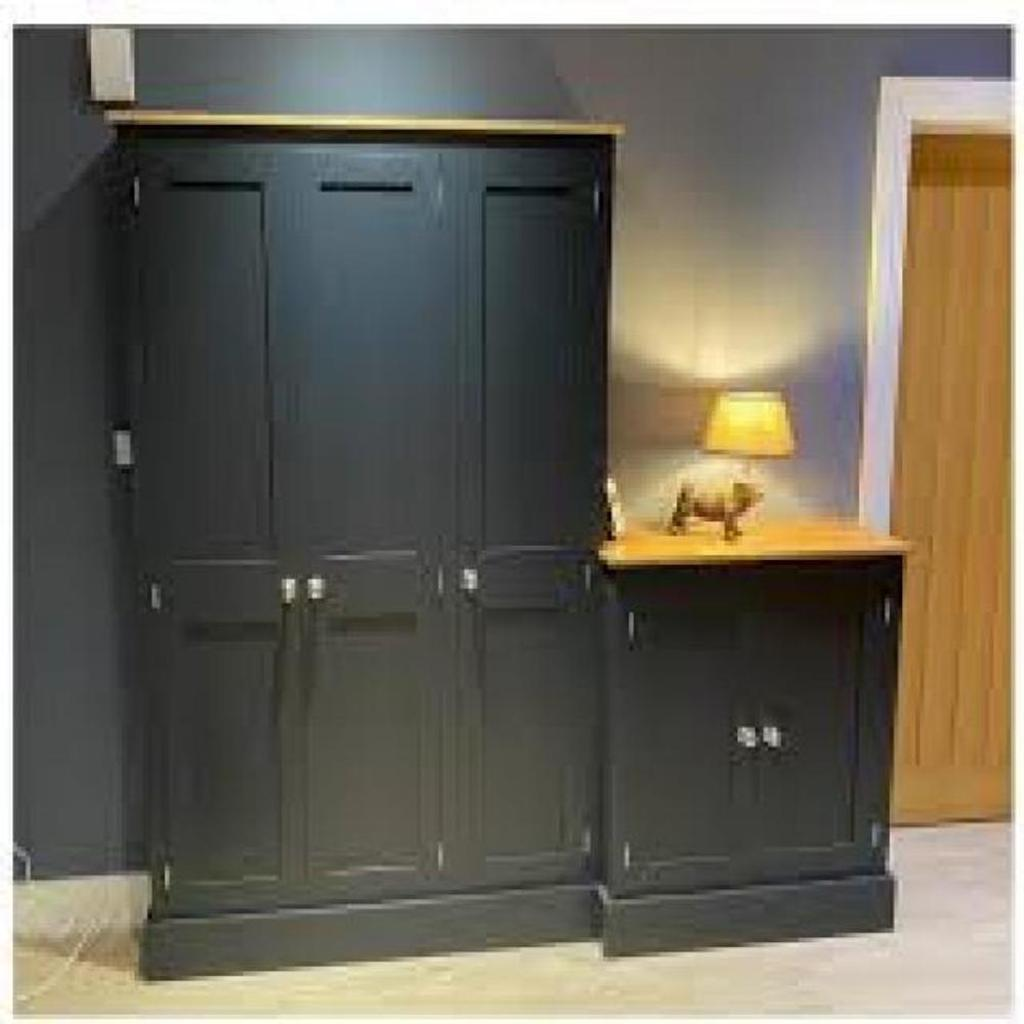cabinet: (90, 94, 618, 985), (604, 520, 933, 967)
